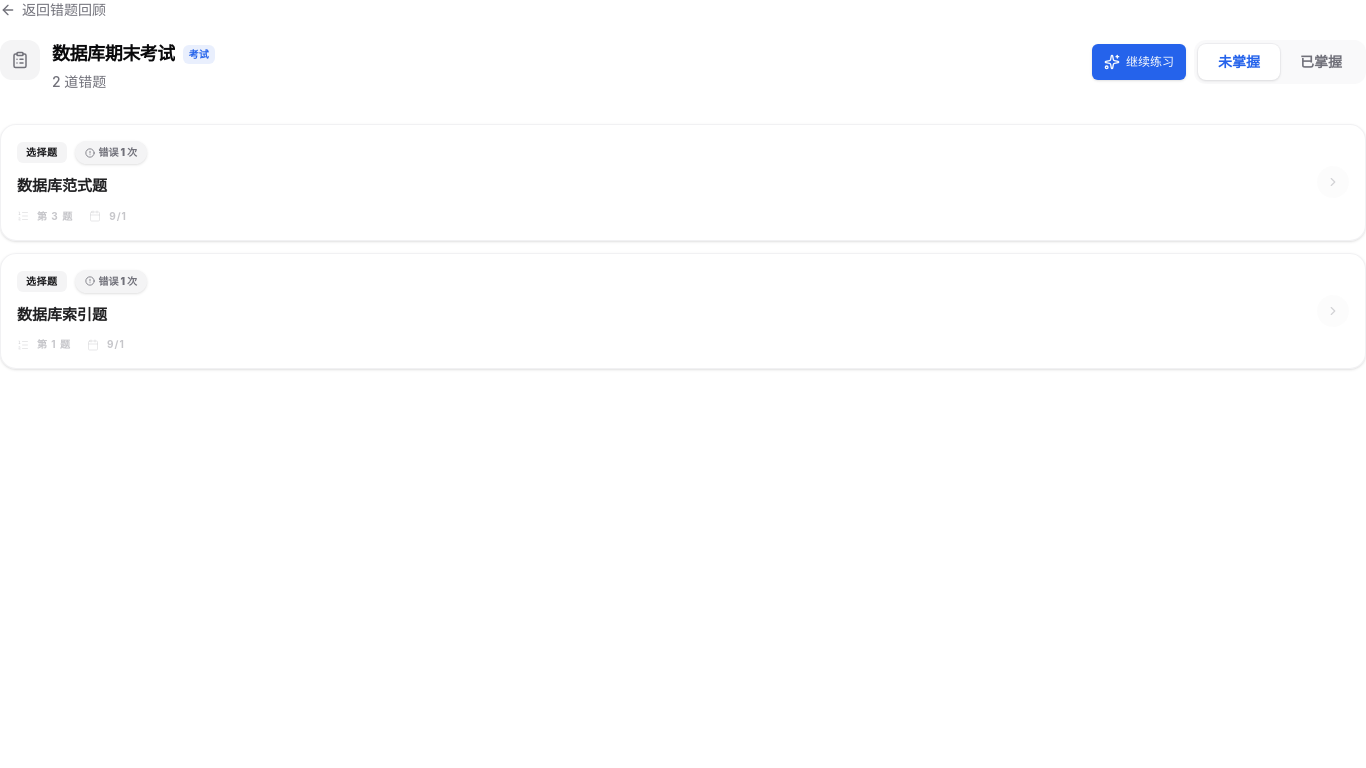
WrongAnswerExamPage › keeps the total in sync when a knowledge point count is edited
Click the button "继续练习": [1139, 62] box x1=1092 y1=44 x2=1186 y2=80
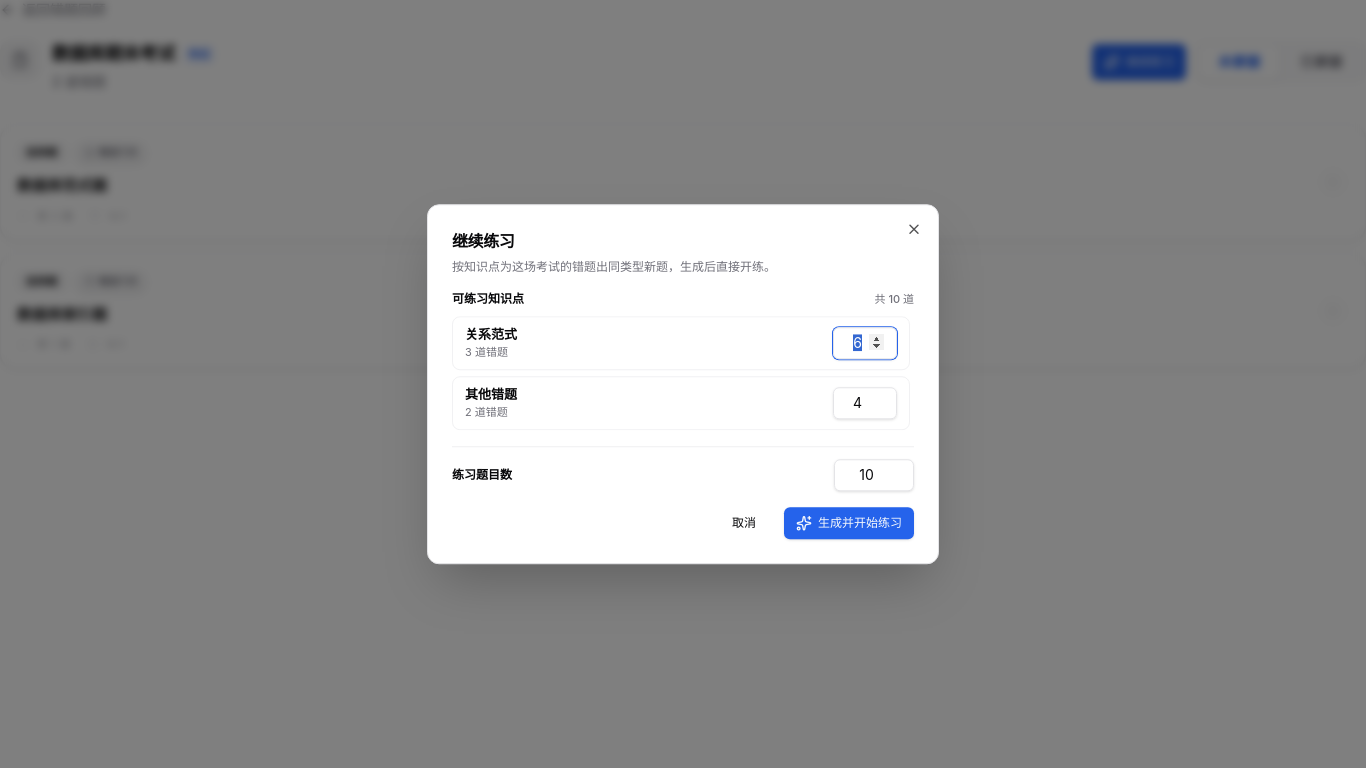
Replace the text in the number field named "关系范式 练习题目数" with "3": [865, 343] box x1=833 y1=327 x2=897 y2=359
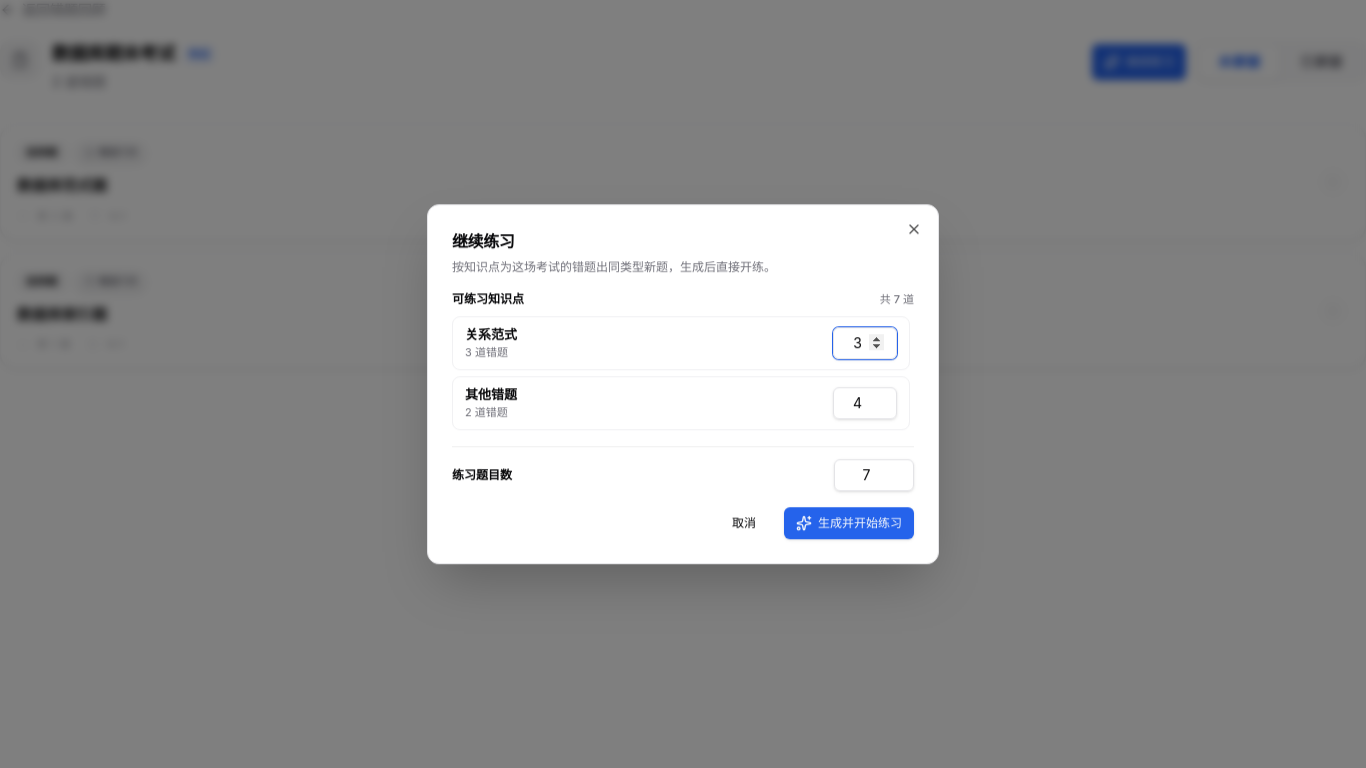
expect the text "共 7 道" is shown: met, box x1=880 y1=291 x2=914 y2=308
